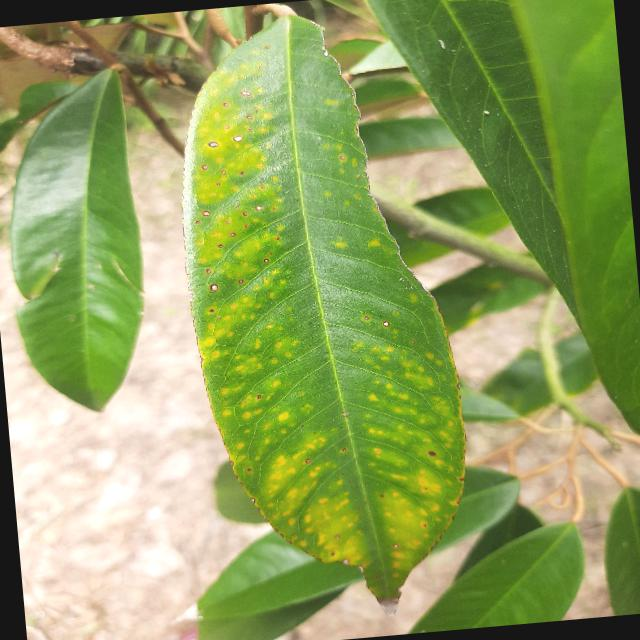Leaf Spot: (151, 0, 494, 639)
